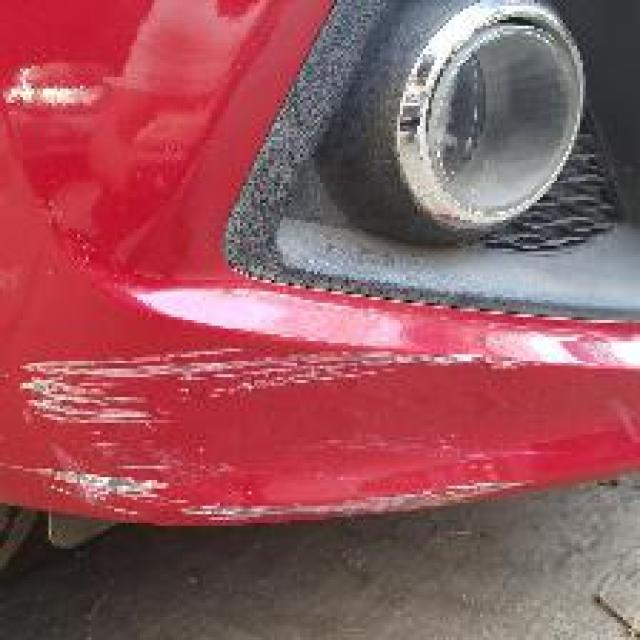bumper_scratch_moderate: (26, 349, 557, 520)
